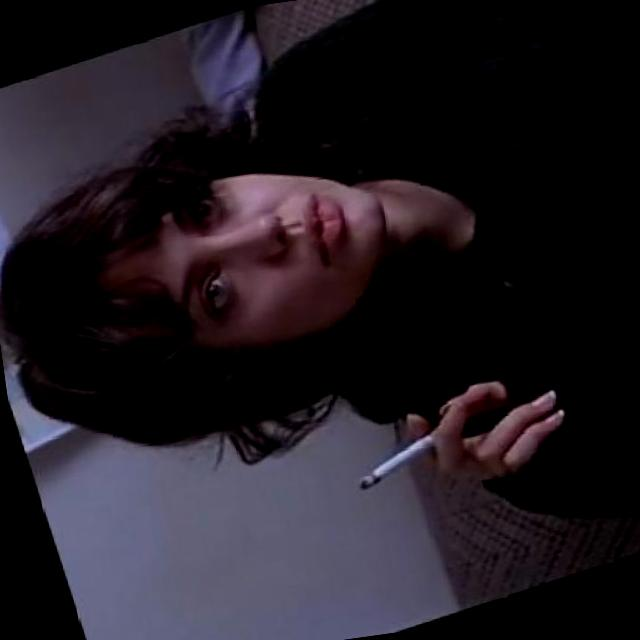cigarette: (344, 420, 454, 495)
